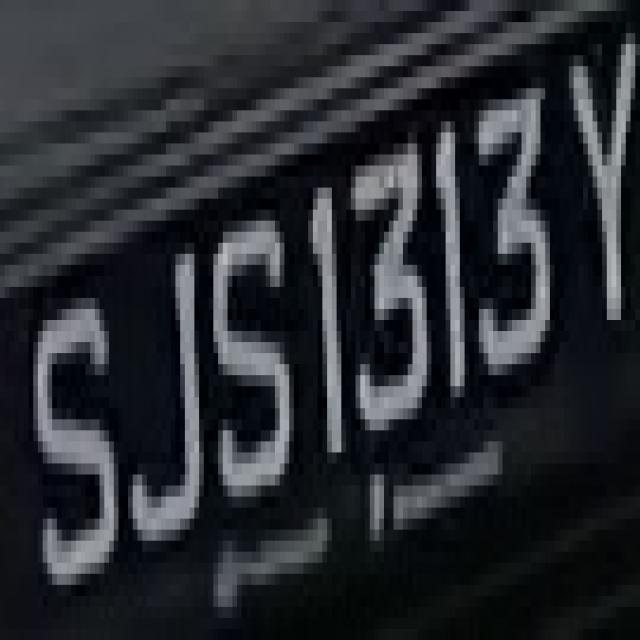1: (426, 67, 484, 430), (304, 121, 356, 518)
3: (346, 110, 431, 486), (469, 77, 555, 375)
J: (114, 210, 213, 562)
S: (10, 276, 124, 618), (194, 210, 299, 540)
